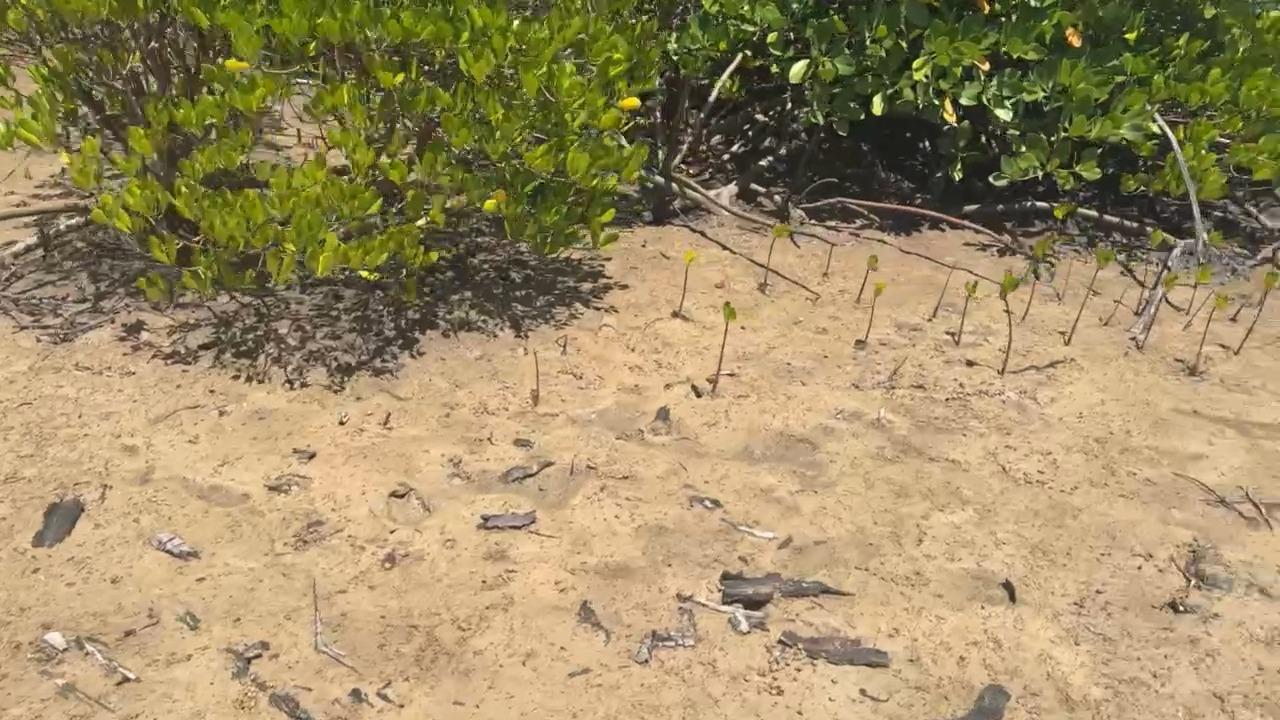Tree: (1065, 246, 1115, 346), (1235, 268, 1278, 356), (1192, 293, 1231, 373), (1020, 235, 1055, 320), (1141, 273, 1179, 350), (1136, 230, 1167, 317), (711, 302, 737, 391), (998, 270, 1020, 375), (762, 225, 788, 286), (862, 283, 886, 344), (957, 281, 979, 345), (932, 262, 957, 318), (676, 252, 697, 317), (1183, 290, 1215, 330), (1186, 265, 1211, 314), (857, 252, 878, 302), (1103, 289, 1127, 328), (533, 350, 540, 405), (1231, 298, 1247, 322), (826, 245, 834, 273)
